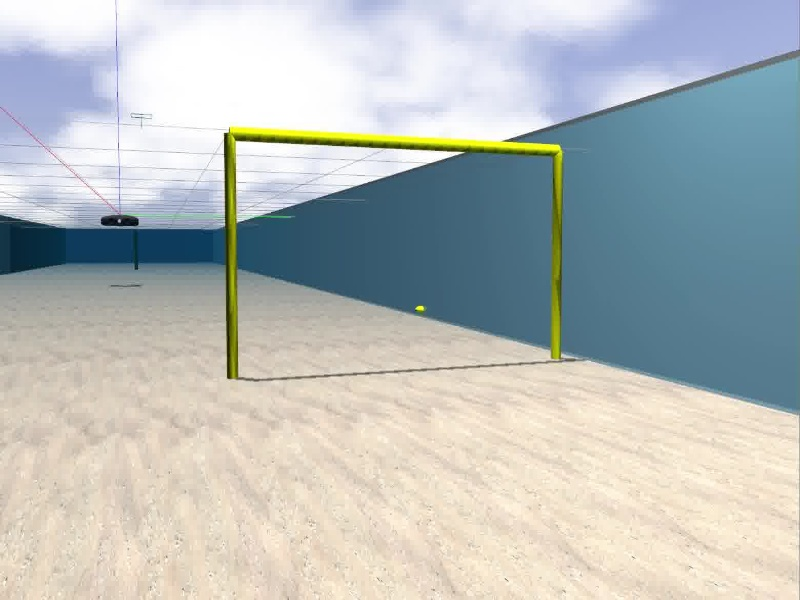gate: (223, 126, 564, 379)
